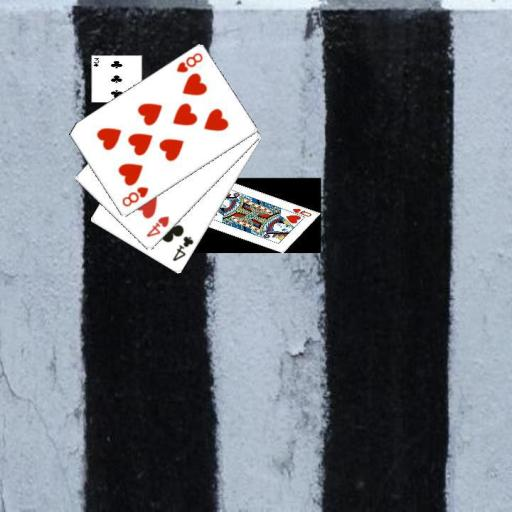4C: (169, 233, 195, 263)
4H: (143, 213, 171, 239)
8H: (119, 184, 150, 209), (173, 50, 204, 75)
